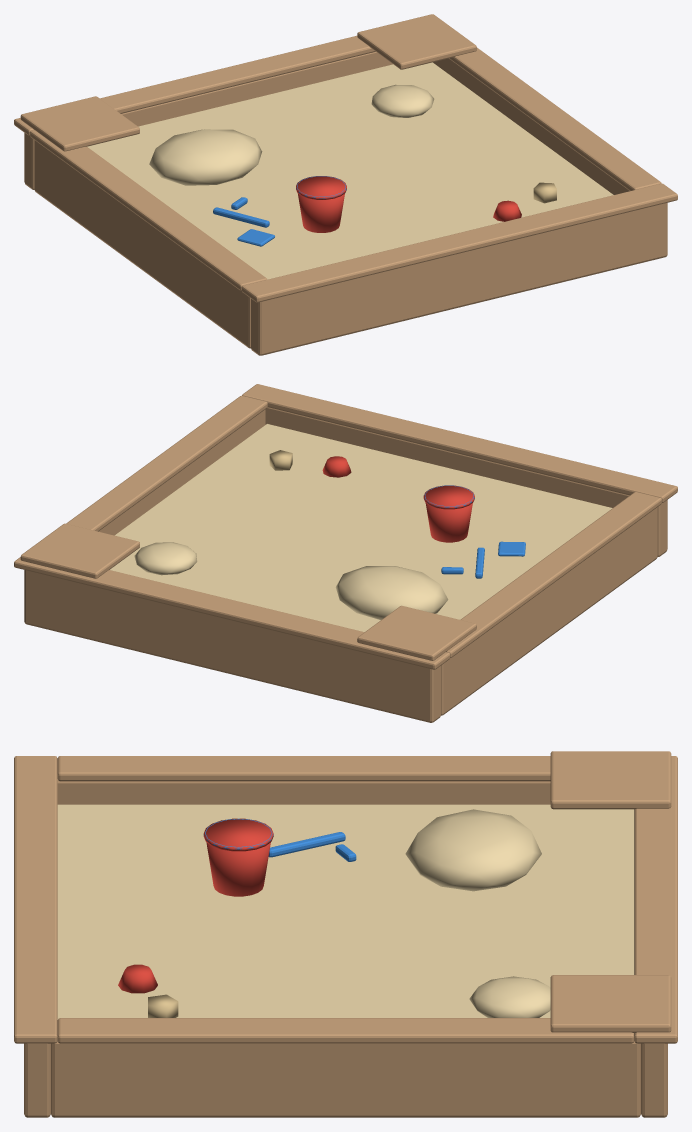
Rendered from sandbox.glb.
3 views of the same model, one above another, from view 1: azimuth 30°, elevation 25°; view 2: azimuth 150°, elevation 25°; view 3: azimuth 270°, elevation 25° (orthographic). The views are drawn at different scales.
Parts seen in each view (by area): view 1: sandbox; view 2: sandbox; view 3: sandbox.
Part boxes in pixels (x1,y1,x2,y2): sandbox: (14, 14, 677, 355); sandbox: (14, 384, 677, 722); sandbox: (14, 751, 677, 1117).
Size of the model in its own units: 1.98 by 0.355 by 1.98.
